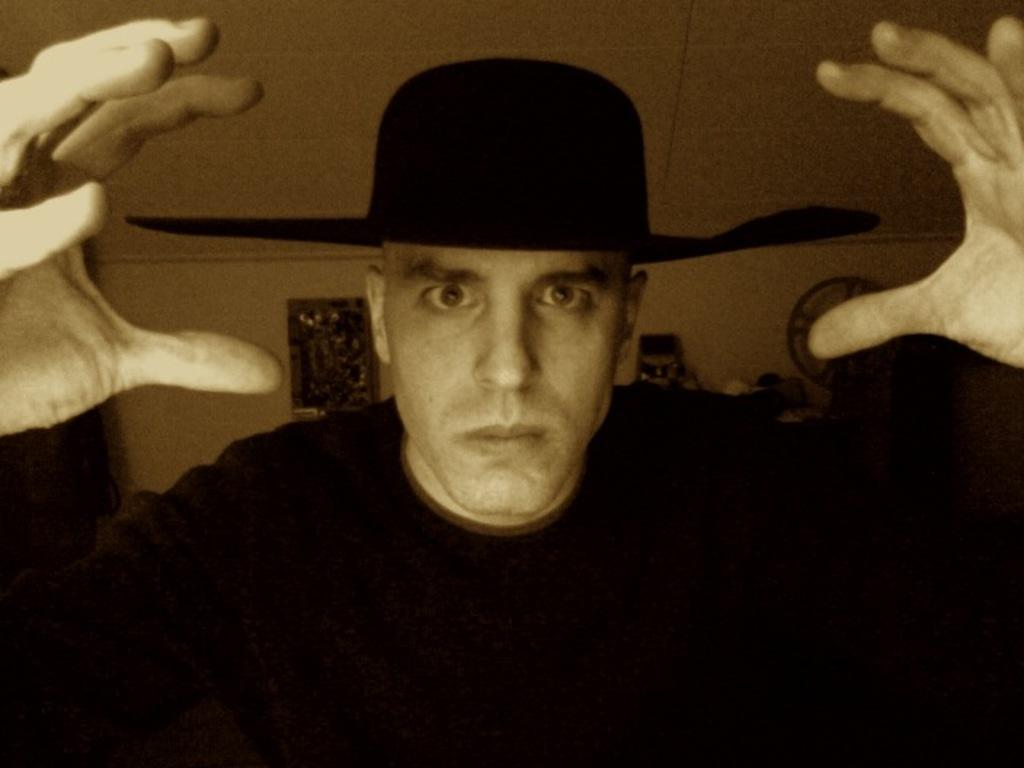Hat: (121, 57, 884, 264)
